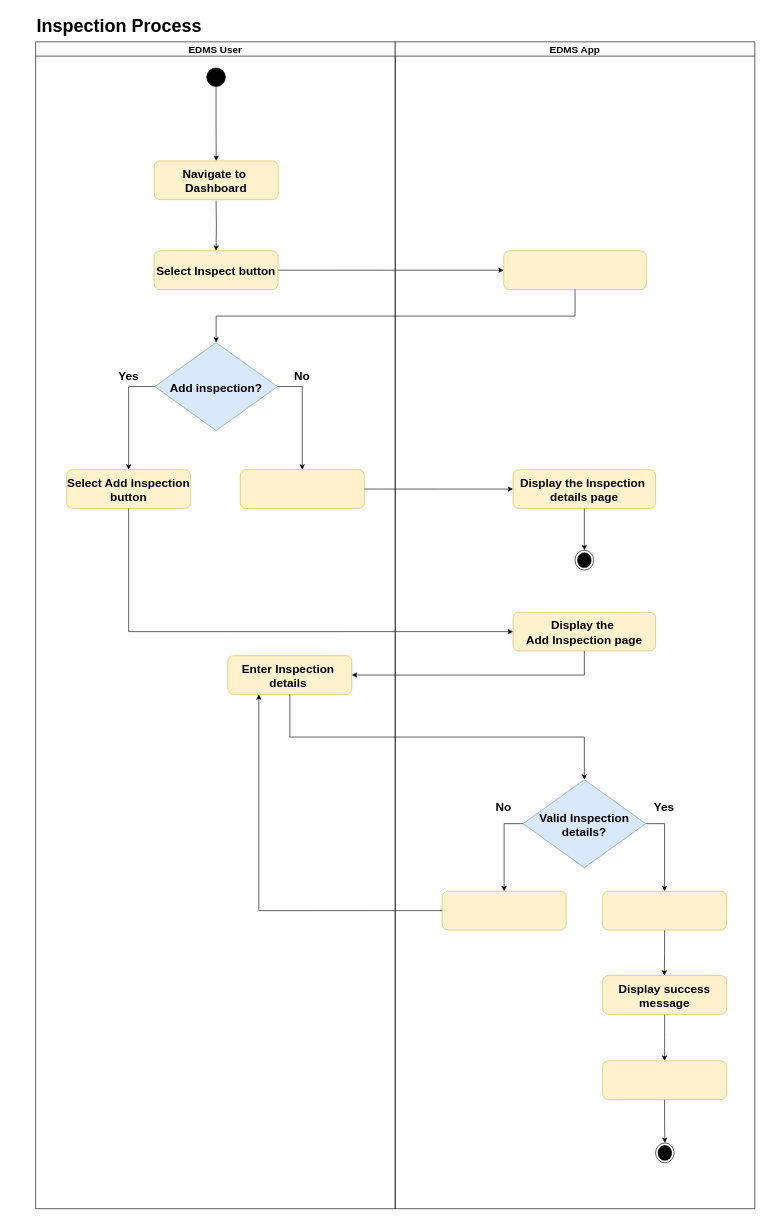
Image size: 766x1220. Some labels were removed from this diagram. The centre of each missing label's shape, as x and y in pixels:
"Add new inspection to database" goes at [664,910].
"Display Dashboard" goes at [664,1080].
"Display error message" goes at [504,910].
"Display the Inspection list page" goes at [574,270].
"Select View details button" goes at [302,488].
